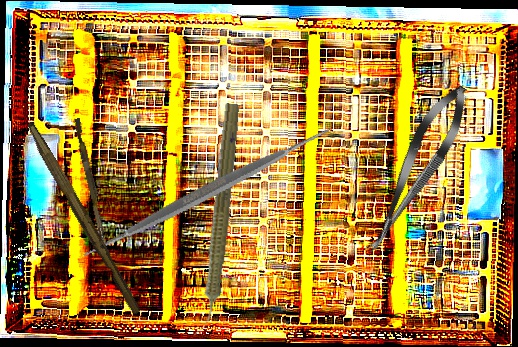Handpiece: (191, 102, 245, 340)
Micro Scissor: (353, 77, 480, 262)
Pusher: (70, 117, 113, 252)
Scalpel Handle: (20, 121, 146, 316)
Spatula Surgical: (67, 52, 349, 333)
